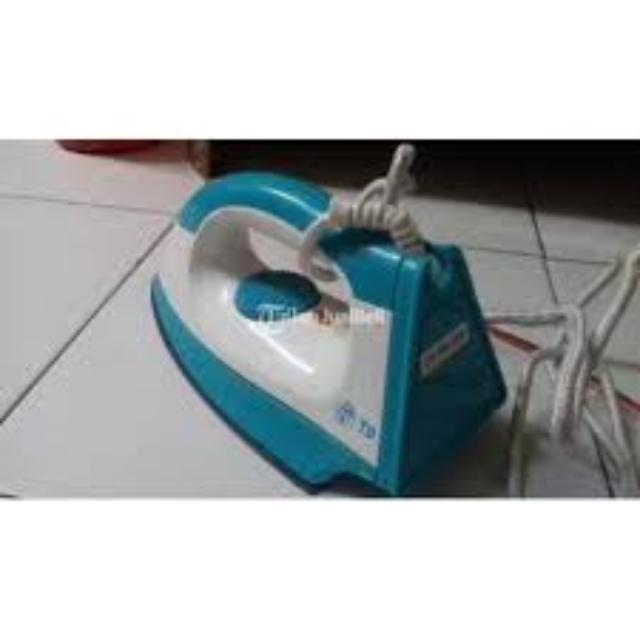Clothes-Iron: (141, 176, 514, 460)
